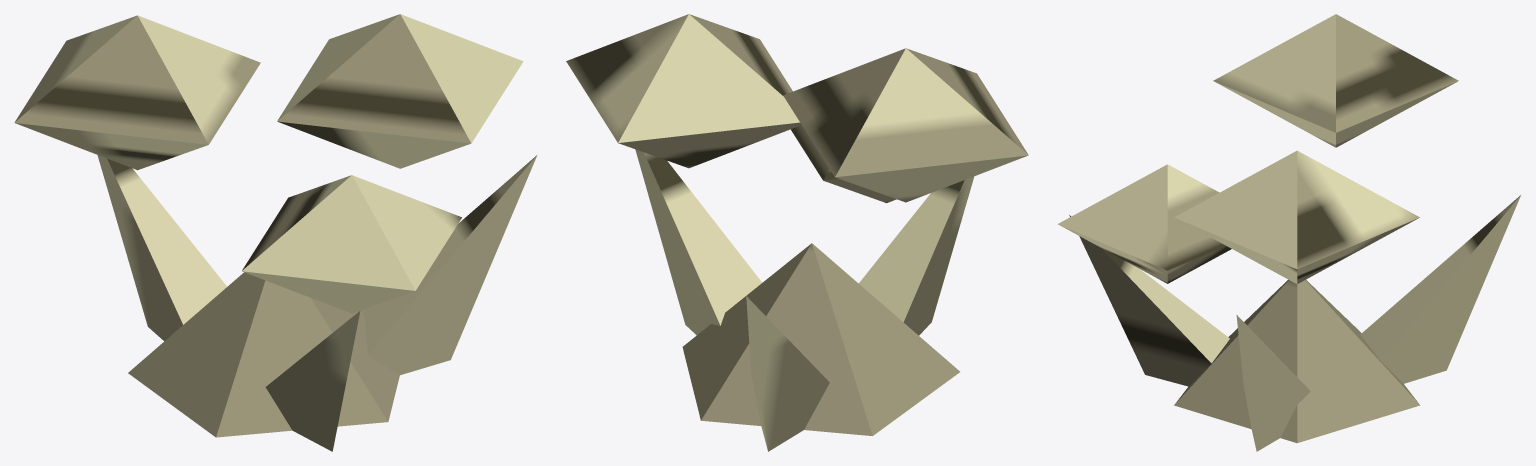
File: flower_purple.fbx
The picture shows the model from 3 angles, left to right: view 1: azimuth 30°, elevation 25°; view 2: azimuth 150°, elevation 25°; view 3: azimuth 270°, elevation 25°; orthographic projection. The views are drawn at different scales.
Parts seen in each view (by area): view 1: prop; view 2: prop; view 3: prop.
Boxes of the visible parts, left/top/right/bottom form: prop: left=14, top=14, right=537, bottom=451; prop: left=566, top=14, right=1028, bottom=451; prop: left=1058, top=14, right=1520, bottom=451.
Size of the model in its own units: 0.375 by 0.277 by 0.3581.
